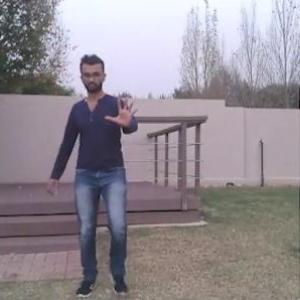follow_hand: (103, 91, 143, 130)
